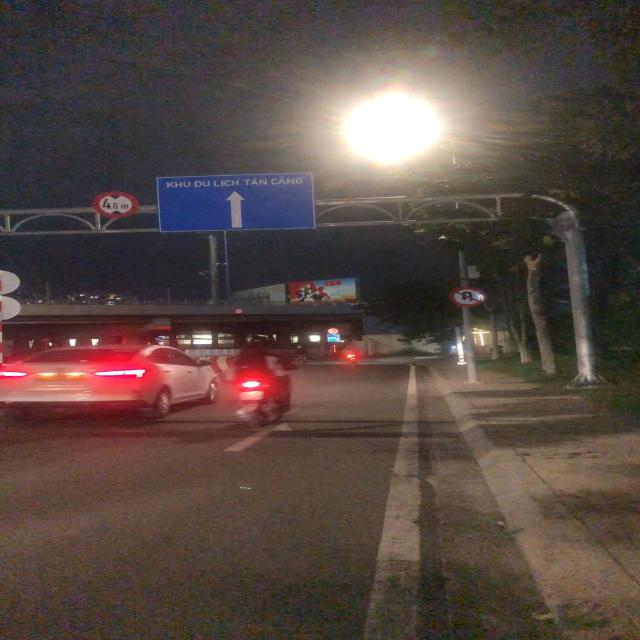Bien bao cam quay dau xe: (446, 285, 489, 308)
Bien bao han che chieu cao: (90, 187, 141, 219)
